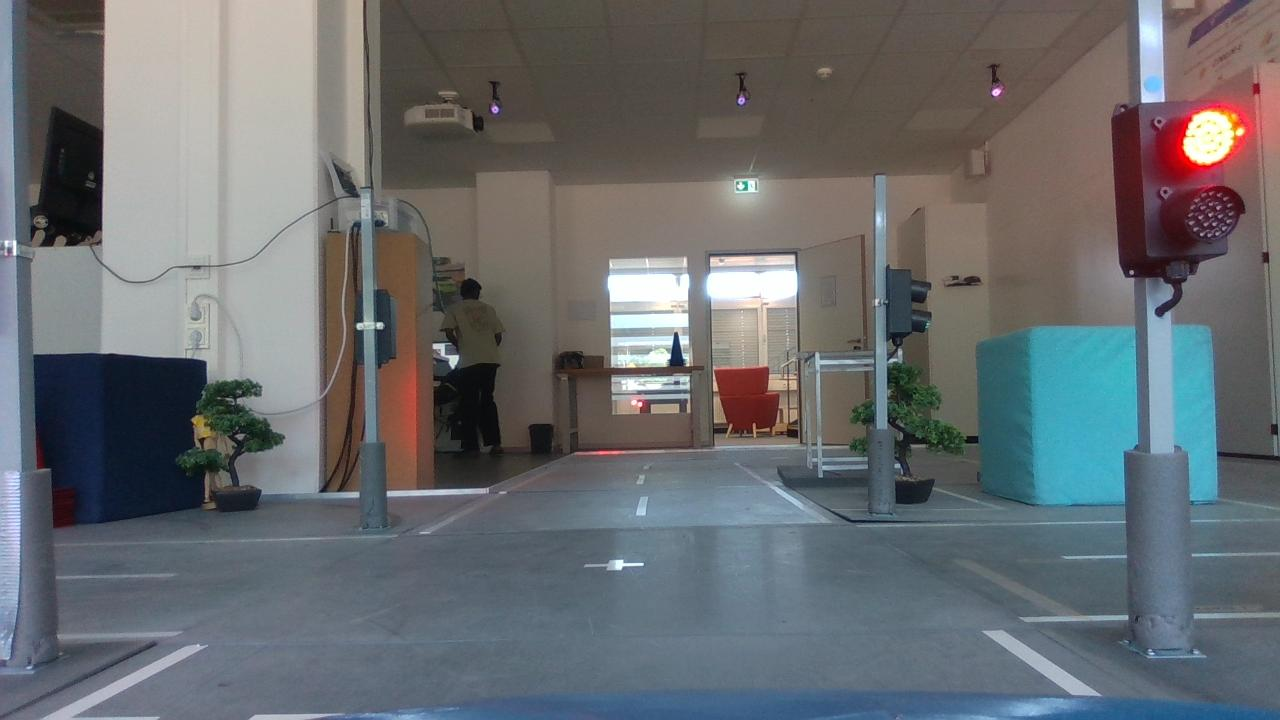traffic_light_red: (1096, 80, 1258, 298)
